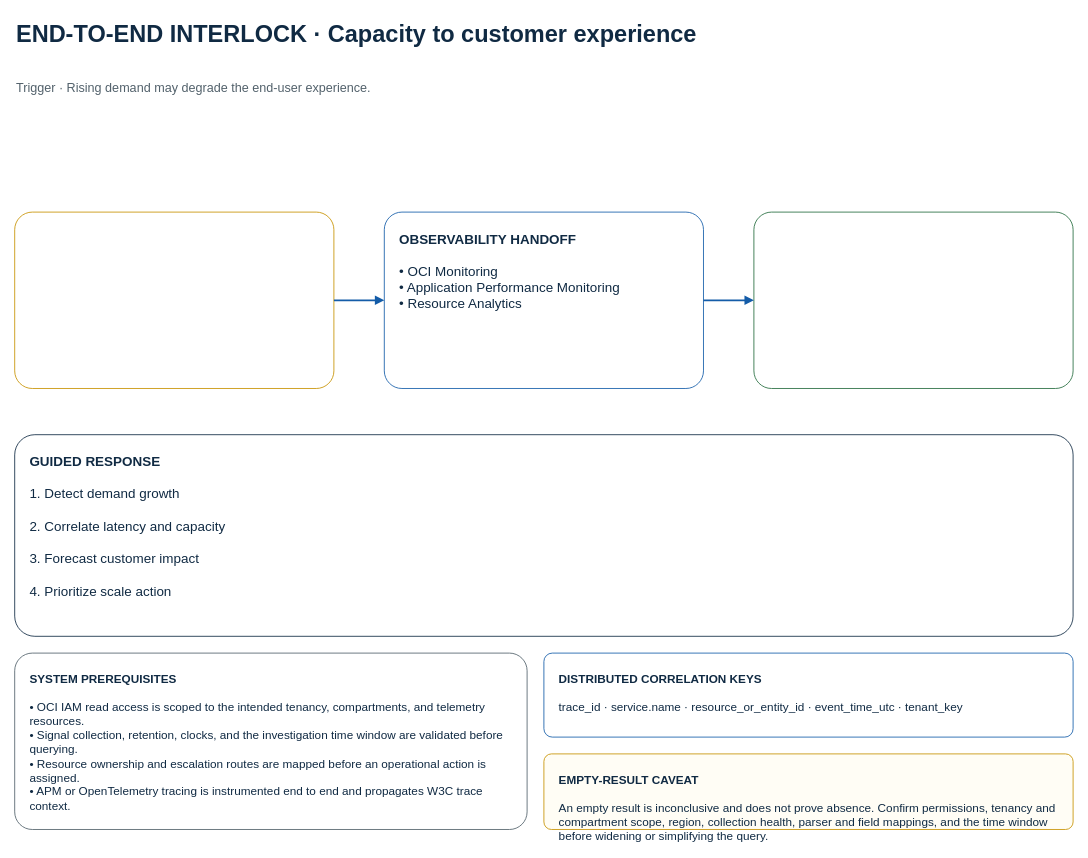
Some shapes in this 1088 by 858 pixel diagram are drawn without their labels. The shapes that lost their labels are listed below. From the top down, each one's centre as x and y in pixels, then its label:
At (x=174, y=299): "SOURCE EVIDENCE • Capacity metrics • Application latency • Transaction volume".
At (x=913, y=299): "OPERATIONAL OUTCOME • Connect resource pressure to customer-facing performance.".
